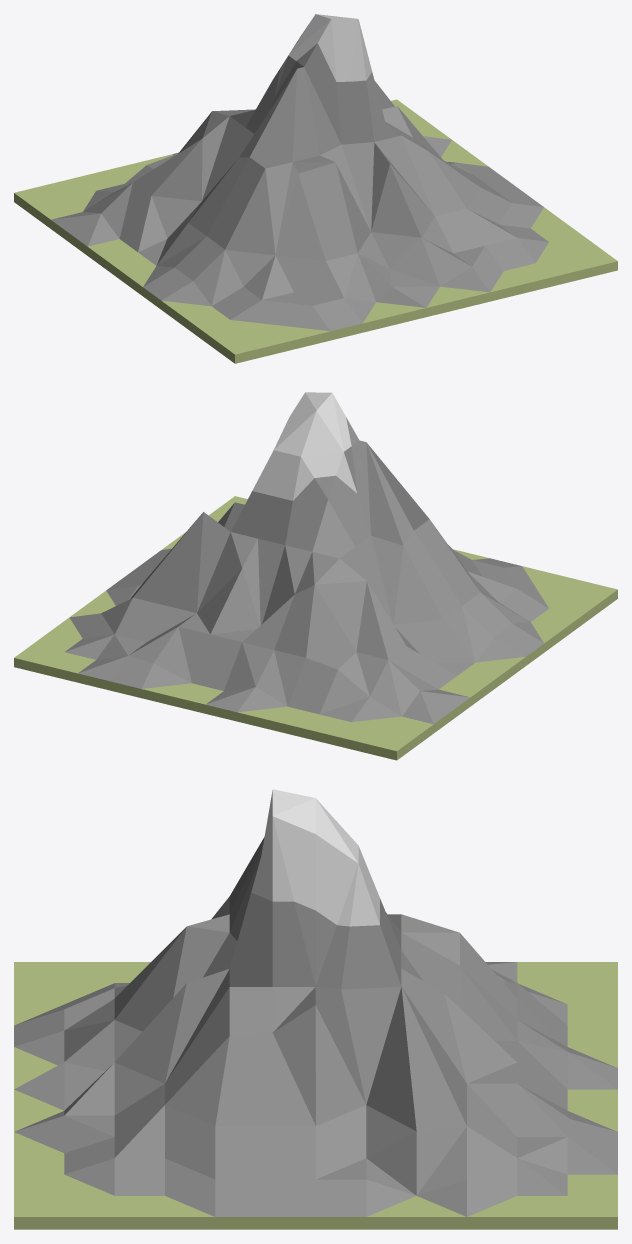
Rendered from Mountain I.fbx.
3 views of the same model, one above another, from view 1: azimuth 30°, elevation 25°; view 2: azimuth 150°, elevation 25°; view 3: azimuth 270°, elevation 25° (orthographic). The views are drawn at different scales.
Visible parts, largest first — view 1: Mountain I; view 2: Mountain I; view 3: Mountain I.
Part boxes in pixels (x1,y1,x2,y2): Mountain I: (14,14,617,363); Mountain I: (14,392,617,760); Mountain I: (14,789,617,1229).
Size of the model in its own units: 1600 by 914 by 1600.
